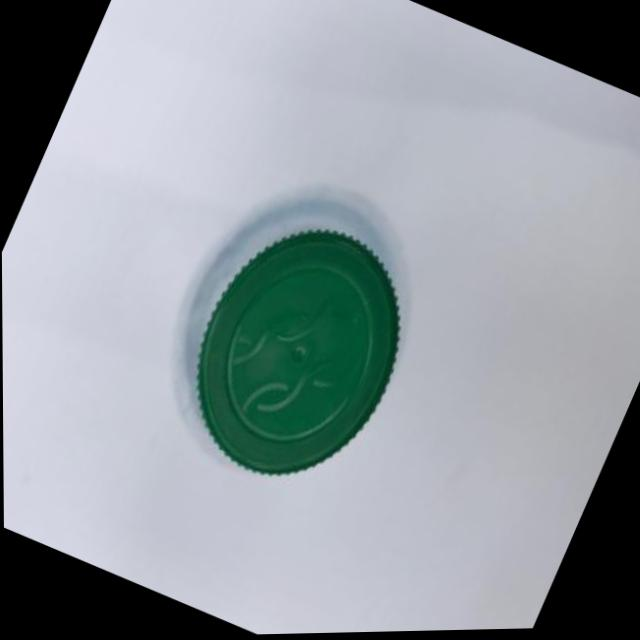plastic: (116, 140, 481, 550)
